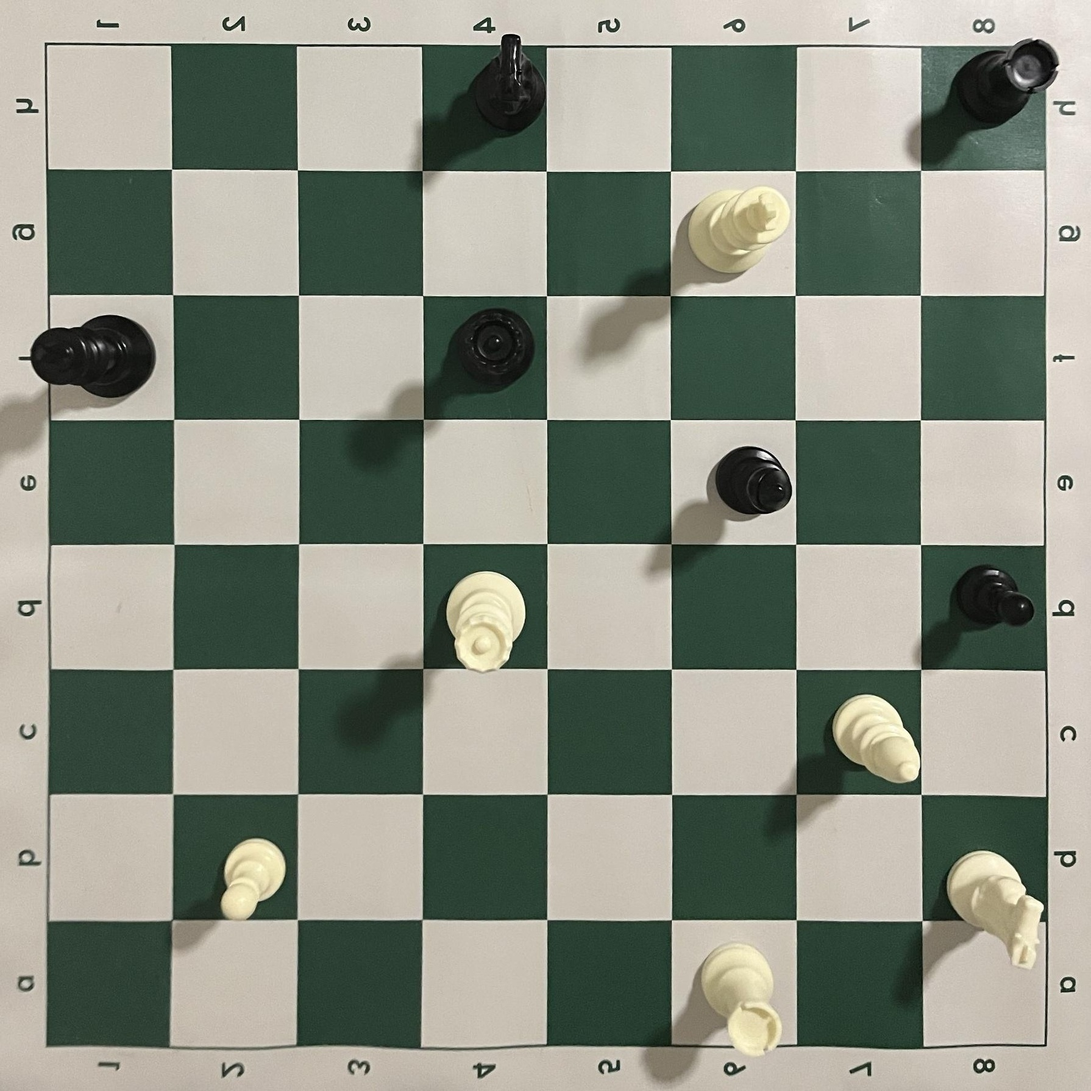black_bishop: (714, 445, 794, 517)
black_king: (29, 313, 157, 399)
black_knight: (469, 34, 546, 133)
black_pawn: (956, 563, 1036, 627)
black_queen: (448, 308, 535, 388)
black_rook: (950, 38, 1061, 127)
white_bishop: (833, 694, 922, 784)
white_king: (686, 186, 791, 274)
white_knight: (946, 850, 1045, 972)
white_pawn: (219, 837, 287, 921)
white_queen: (446, 571, 527, 674)
white_rook: (700, 942, 783, 1059)
